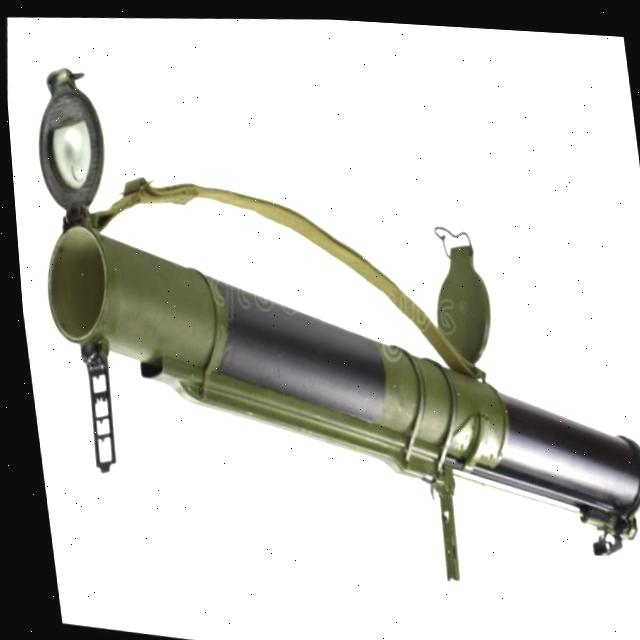rocket: (2, 28, 640, 626)
